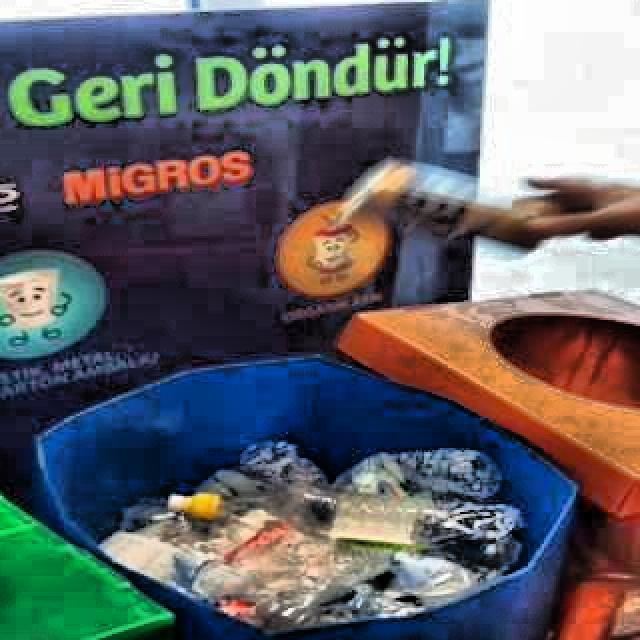metal: (343, 160, 552, 248)
